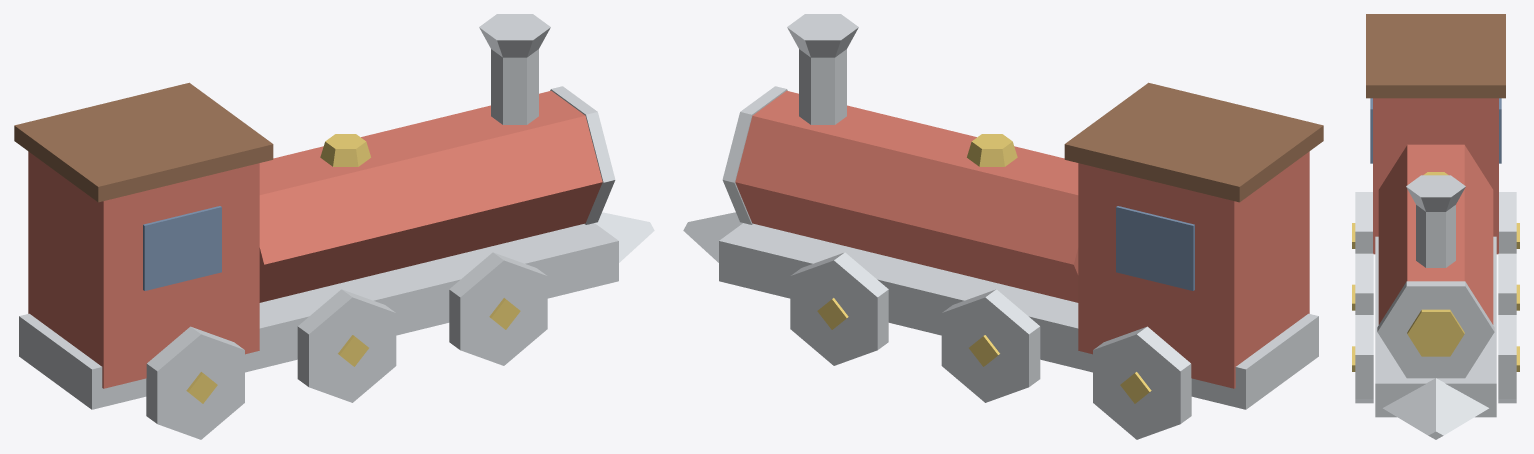
File: train.glb
3 views of the same model, side by side, from view 1: azimuth 30°, elevation 25°; view 2: azimuth 150°, elevation 25°; view 3: azimuth 270°, elevation 25° (orthographic). The views are drawn at different scales.
Parts seen in each view (by area): view 1: train_boiler, train_cabin, train_chassis, train_cabin_roof, train_wheel_-0.1_-1, train_wheel_0.92_-1, train_wheel_-1.12_-1, train_window_-1, train_stack, train_stack_top, train_smokebox, train_cowcatcher (+1 smaller); view 2: train_boiler, train_cabin, train_chassis, train_cabin_roof, train_wheel_-0.1_1, train_wheel_0.92_1, train_wheel_-1.12_1, train_window_1, train_stack, train_stack_top, train_smokebox, train_cowcatcher (+1 smaller); view 3: train_boiler, train_cabin_roof, train_cabin, train_smokebox, train_chassis, train_cowcatcher, train_stack, train_door, train_wheel_0.92_-1, train_wheel_0.92_1, train_stack_top, train_wheel_-0.1_-1 (+5 smaller).
Part boxes in pixels (x1,y1,x2,y2): train_boiler: (259,91,602,302); train_cabin: (28,151,259,388); train_chassis: (19,223,618,409); train_cabin_roof: (14,82,273,202); train_wheel_-0.1_-1: (297,289,396,402); train_wheel_0.92_-1: (449,252,547,365); train_wheel_-1.12_-1: (146,326,244,439); train_window_-1: (143,206,221,290); train_stack: (491,49,538,124); train_stack_top: (479,14,550,57); train_smokebox: (550,86,615,224); train_cowcatcher: (595,212,654,262); train_boiler: (735,91,1078,302); train_cabin: (1078,151,1309,388); train_chassis: (719,223,1318,409); train_cabin_roof: (1064,82,1323,202); train_wheel_-0.1_1: (941,289,1040,402); train_wheel_0.92_1: (790,252,888,365); train_wheel_-1.12_1: (1093,326,1191,439); train_window_1: (1116,206,1194,290); train_stack: (799,49,846,124); train_stack_top: (787,14,858,57); train_smokebox: (722,86,787,224); train_cowcatcher: (683,212,742,262); train_boiler: (1378,144,1493,324); train_cabin_roof: (1366,14,1505,98); train_cabin: (1373,98,1498,254); train_smokebox: (1377,281,1494,378); train_chassis: (1375,236,1496,417); train_cowcatcher: (1383,378,1488,439); train_stack: (1416,205,1455,267); train_door: (1407,309,1464,356); train_wheel_0.92_-1: (1355,315,1373,403); train_wheel_0.92_1: (1498,315,1516,403); train_stack_top: (1406,175,1465,211); train_wheel_-0.1_-1: (1355,253,1373,314).
Bounding box in the file's own units: 4.01 × 1.86 × 1.17.
